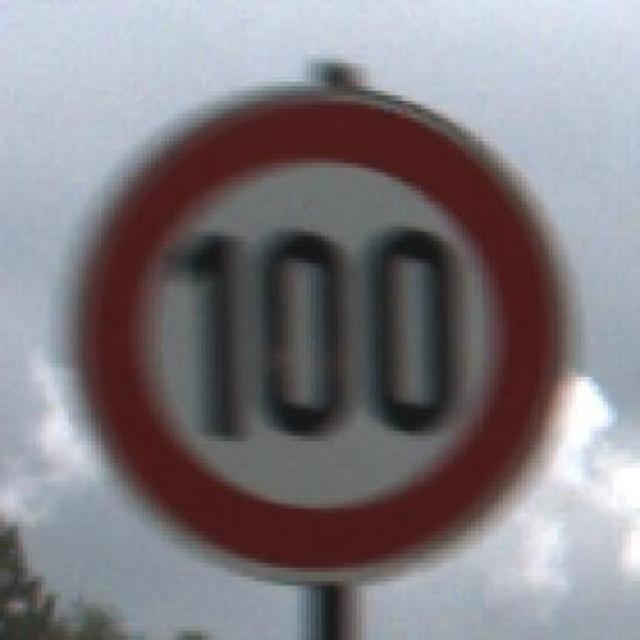forb_speed_over_100: (83, 93, 565, 576)
